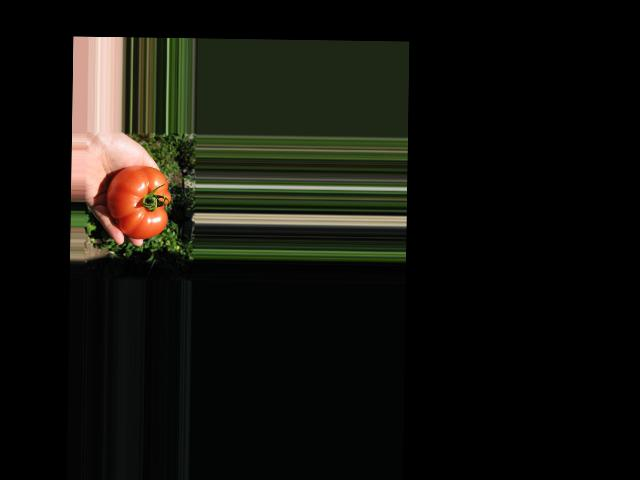tomato: (106, 166, 171, 240)
